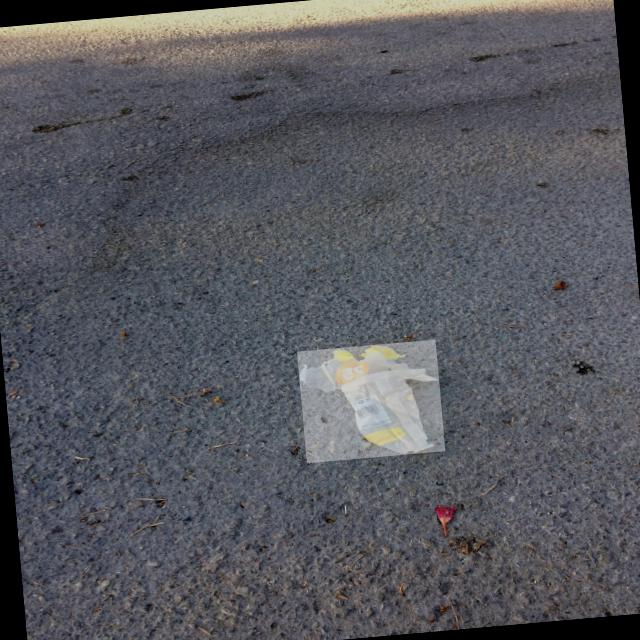Plastic film: (299, 346, 438, 454)
